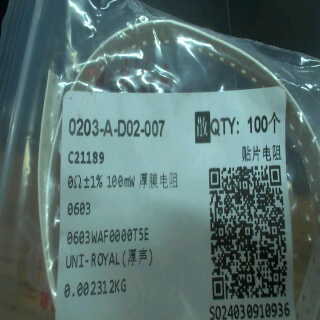0R: (62, 171, 107, 220)
